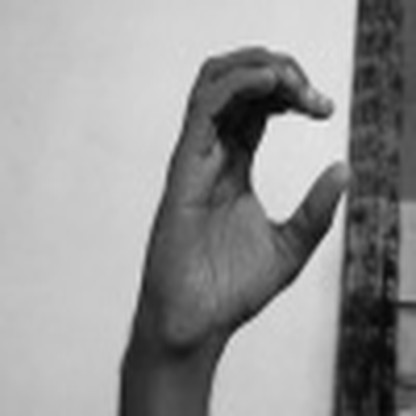c: (141, 42, 358, 328)
